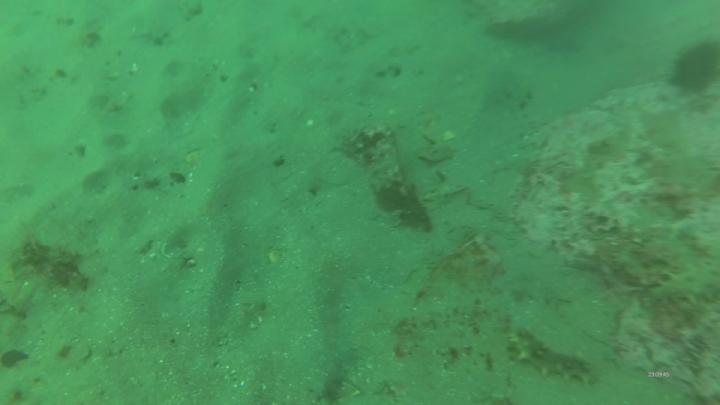echinus: (671, 36, 720, 93)
holothurian: (509, 327, 600, 385)
